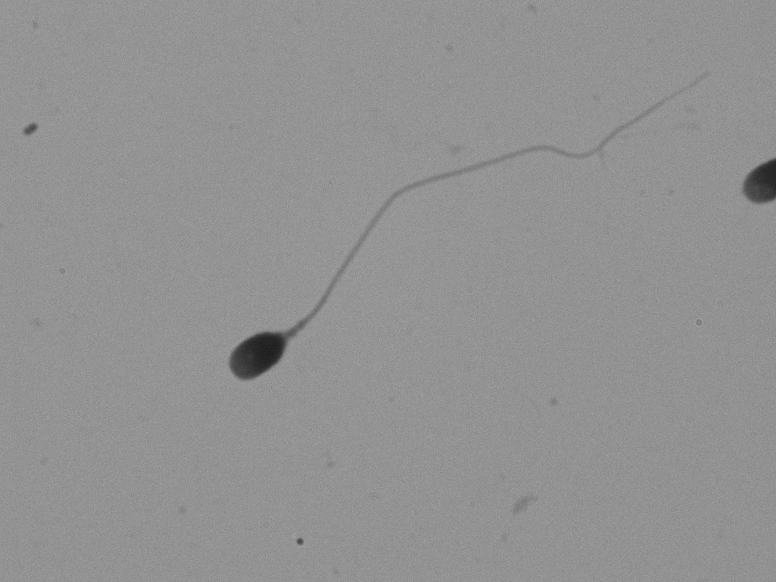Normal: (170, 90, 686, 424)
